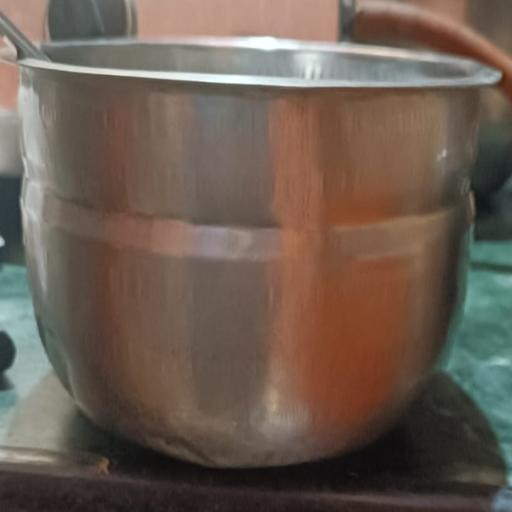vessel: (19, 38, 499, 466)
